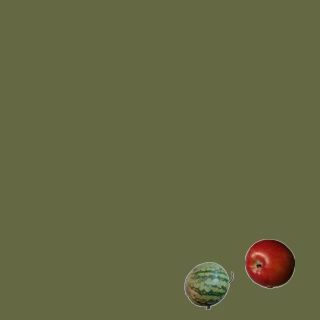Apple Braeburn: (244, 238, 294, 288)
Watermelon: (183, 260, 233, 310)
